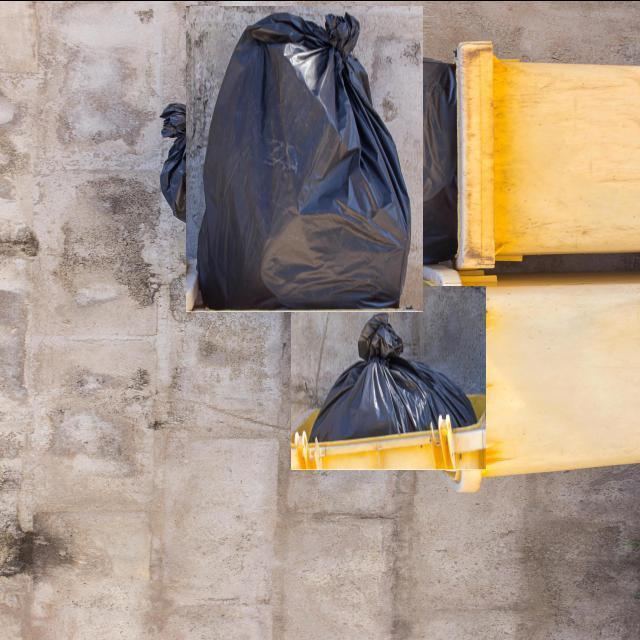Trashbag: (191, 14, 416, 309), (305, 318, 485, 450)
